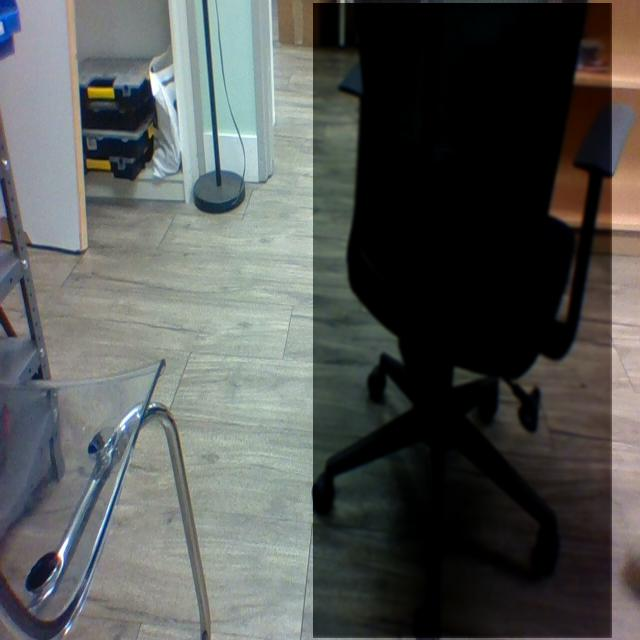black-chair: (313, 3, 613, 639)
